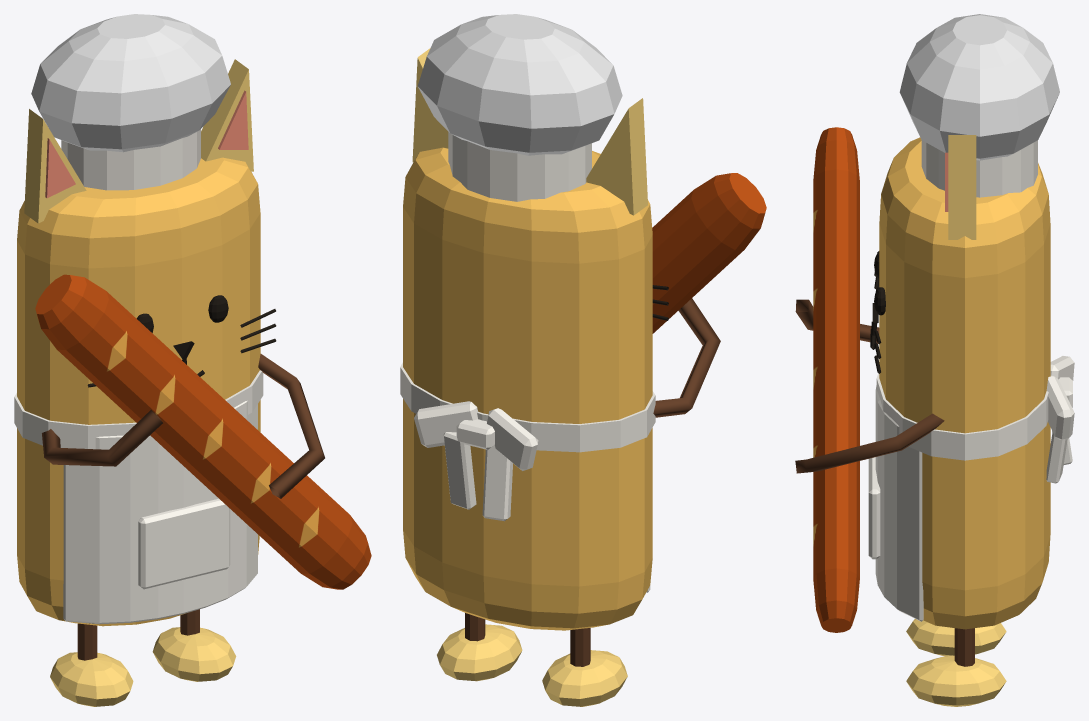
The model's file is char_baker_cat_rebuild_v7.glb.
3 views of the same model, side by side, from view 1: azimuth 30°, elevation 25°; view 2: azimuth 150°, elevation 25°; view 3: azimuth 270°, elevation 25° (orthographic). The views are drawn at different scales.
Parts seen in each view (by area): view 1: BC3_Body_Capsule, BC3_Baguette, BC3_Apron_Front, BC3_Hat_Puff, BC3_Apron_Pocket, BC3_Hat_Band, BC3_EarInner_L, BC3_EarInner_R, BC3_Foot_R, BC3_Foot_L, BC3_Apron_Waistband, BC3_Arm_R_LowerWrap (+2 smaller); view 2: BC3_Body_Capsule, BC3_Hat_Puff, BC3_Baguette, BC3_Hat_Band, BC3_Apron_Waistband, BC3_EarInner_L, BC3_Foot_L, BC3_Foot_R, BC3_Arm_L_UpperSupport, BC3_Ribbon_L, BC3_Bow_L, BC3_Bow_R (+4 smaller); view 3: BC3_Body_Capsule, BC3_Baguette, BC3_Hat_Puff, BC3_Apron_Front, BC3_Apron_Waistband, BC3_Foot_R, BC3_Hat_Band, BC3_EarInner_R, BC3_Arm_R_LowerWrap, BC3_Foot_L, BC3_Bow_R, BC3_Apron_Pocket (+4 smaller).
Part boxes in pixels (x1,y1,x2,y2): BC3_Body_Capsule: [17, 157, 260, 626]; BC3_Baguette: [35, 274, 371, 589]; BC3_Apron_Front: [63, 400, 257, 624]; BC3_Hat_Puff: [31, 14, 230, 152]; BC3_Apron_Pocket: [138, 498, 230, 589]; BC3_Hat_Band: [61, 129, 200, 190]; BC3_EarInner_L: [24, 109, 86, 223]; BC3_EarInner_R: [201, 59, 253, 171]; BC3_Foot_R: [152, 627, 236, 681]; BC3_Foot_L: [50, 652, 133, 706]; BC3_Apron_Waistband: [14, 370, 263, 449]; BC3_Arm_R_LowerWrap: [258, 354, 324, 498]; BC3_Body_Capsule: [403, 147, 652, 630]; BC3_Hat_Puff: [417, 14, 622, 155]; BC3_Baguette: [652, 173, 766, 333]; BC3_Hat_Band: [448, 132, 591, 201]; BC3_Apron_Waistband: [400, 362, 655, 452]; BC3_EarInner_L: [586, 98, 647, 215]; BC3_Foot_L: [542, 650, 627, 706]; BC3_Foot_R: [437, 624, 522, 681]; BC3_Arm_L_UpperSupport: [653, 298, 720, 417]; BC3_Ribbon_L: [482, 445, 512, 521]; BC3_Bow_L: [487, 408, 538, 470]; BC3_Bow_R: [414, 401, 478, 447]; BC3_Body_Capsule: [879, 137, 1050, 629]; BC3_Baguette: [813, 127, 859, 632]; BC3_Hat_Puff: [899, 14, 1059, 160]; BC3_Apron_Front: [875, 385, 923, 621]; BC3_Apron_Waistband: [876, 373, 1052, 460]; BC3_Foot_R: [906, 655, 1006, 706]; BC3_Hat_Band: [921, 140, 1037, 197]; BC3_EarInner_R: [945, 135, 976, 239]; BC3_Arm_R_LowerWrap: [795, 413, 944, 473]; BC3_Foot_L: [906, 619, 1006, 656]; BC3_Bow_R: [1046, 376, 1074, 439]; BC3_Apron_Pocket: [868, 457, 880, 559].
Size of the model in its own units: 3.56 by 6.67 by 2.61.
Materials: 7 (1 with a texture image).
